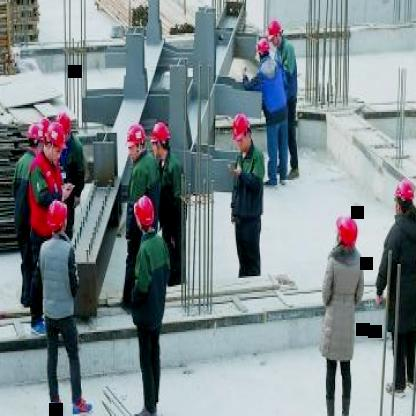helmet: (124, 122, 148, 168), (332, 213, 358, 255), (46, 199, 72, 240), (231, 110, 252, 156), (43, 122, 66, 164), (135, 193, 155, 240), (152, 119, 174, 161), (394, 174, 414, 218), (268, 14, 284, 52), (28, 122, 42, 158), (256, 35, 272, 65)
